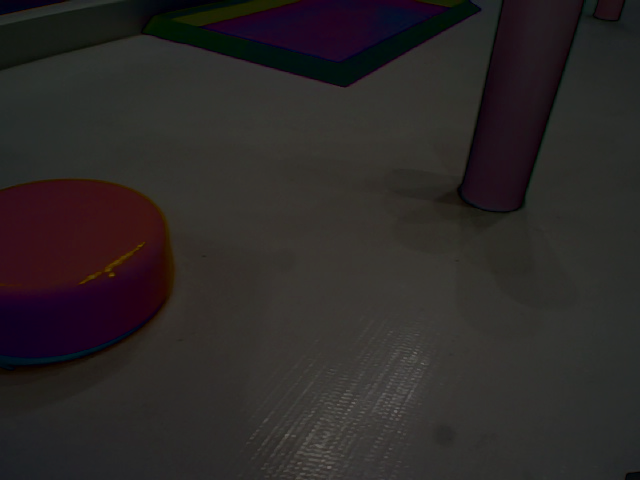kuang: (127, 1, 506, 93)
yellow: (1, 176, 171, 364)
zhuzi: (454, 1, 588, 220)
